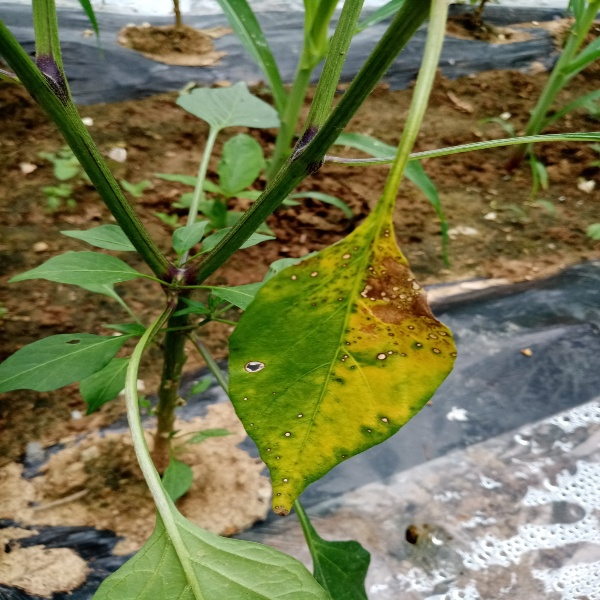Anthrax: (224, 227, 457, 516)
blight: (150, 246, 205, 311), (286, 120, 336, 177), (31, 49, 73, 110)
